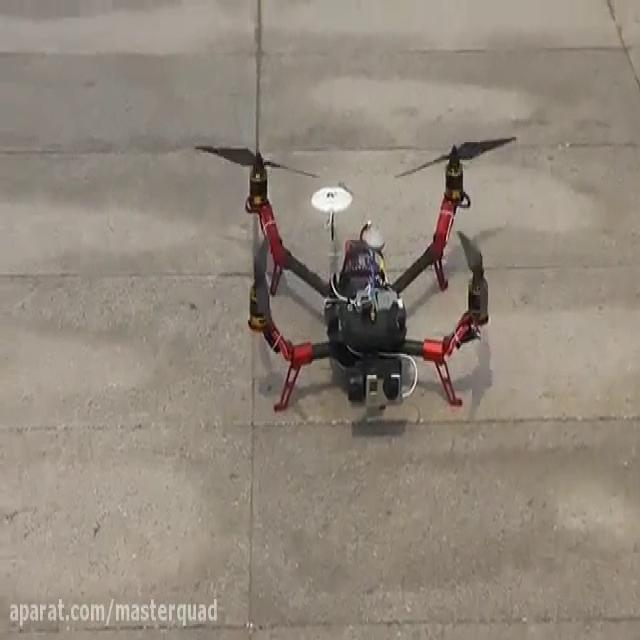drone: (193, 126, 520, 418)
